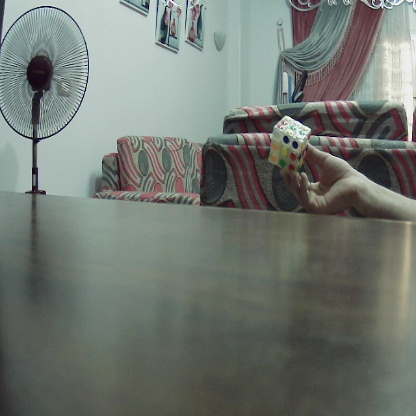Rubix Cube: (266, 115, 311, 168)
